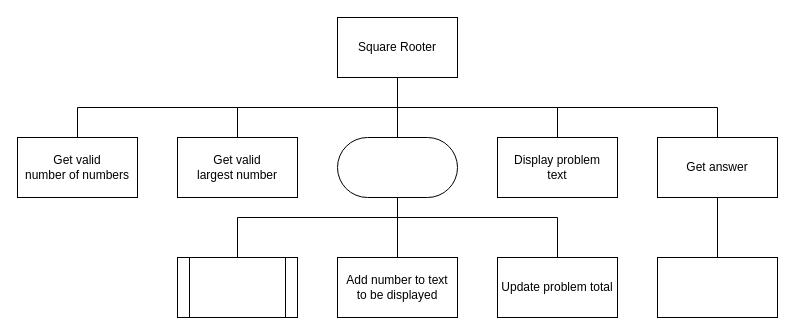
Image size: 795x335. Some labels were removed from this diagram. Here are the shapes that lost their labels. From the top down, the centre of each, then its label:
(397,167): Loop for number of numbers
(237,287): Pick a random number (1 to largest)
(717,287): Check answer and display message
